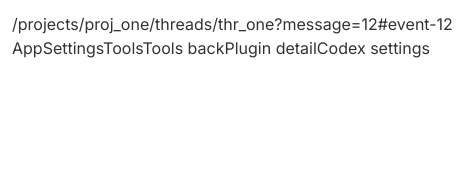
Test: useAppSettingsRouteMemory › switches between the most recent app and settings routes
What coordinates should you click on to do the following:
click the link "Settings"
I would click on:
 (73, 48)
Its box is [43, 38, 103, 58].
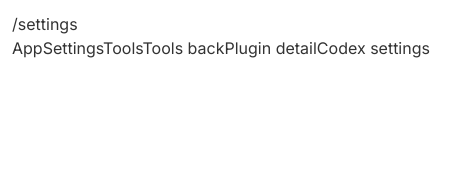
Check: the text with test id "location" reads "/settings", box [12, 14, 78, 34]
What coordinates should you click on to do the following:
click the link "Codex settings"
I would click on:
 (373, 48)
Its box is [317, 38, 430, 58].
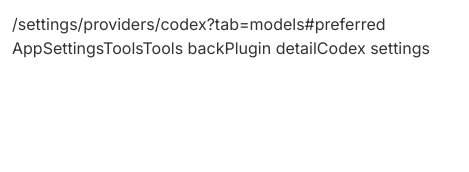
Check: the text with test id "location" reads "/settings/providers/codex?tab=models#preferred", box [12, 14, 386, 34]
What coordinates should you click on to do the following:
click the link "App"
I would click on:
 (27, 48)
Its box is [12, 38, 43, 58].
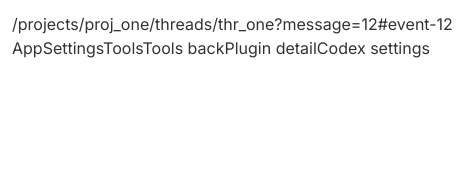
Check: the text with test id "location" reads "/projects/proj_one/threads/thr_one?message=12#event-12", box [12, 14, 453, 34]
What coordinates should you click on to do the following:
click the link "Settings"
I would click on:
 (73, 48)
Its box is [43, 38, 103, 58].
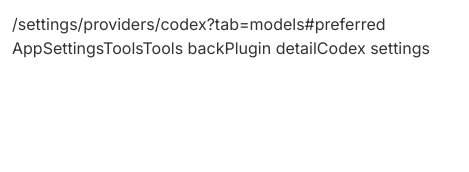
Check: the text with test id "location" reads "/settings/providers/codex?tab=models#preferred", box [12, 14, 386, 34]
